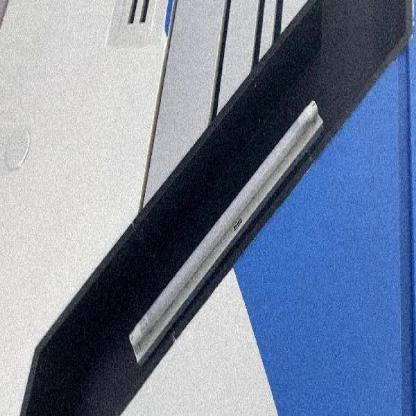light_off: (123, 89, 329, 378)
